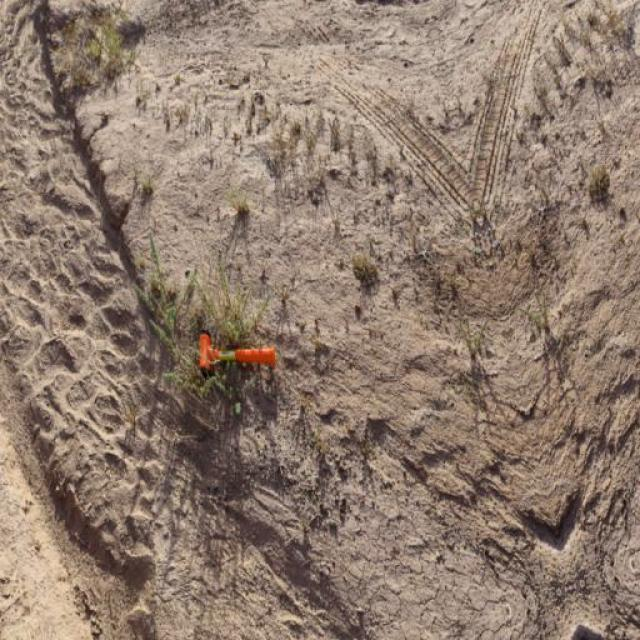mallet: (196, 328, 276, 378)
